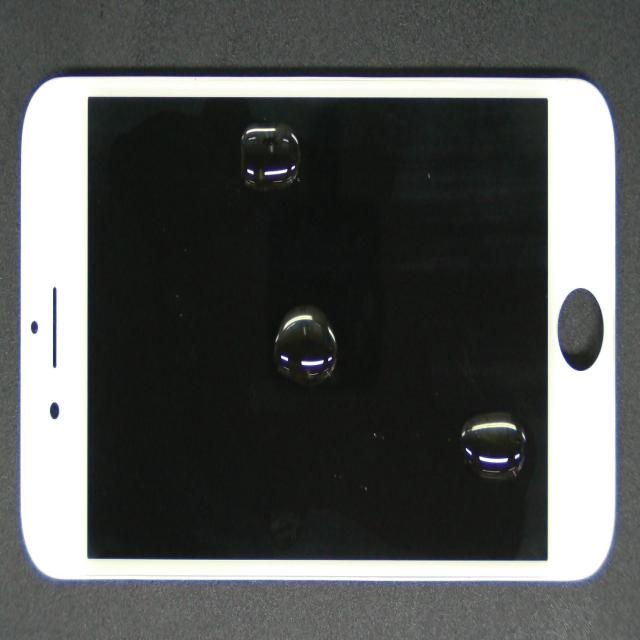oil: (267, 255, 640, 640), (203, 189, 501, 487), (124, 105, 424, 267)
